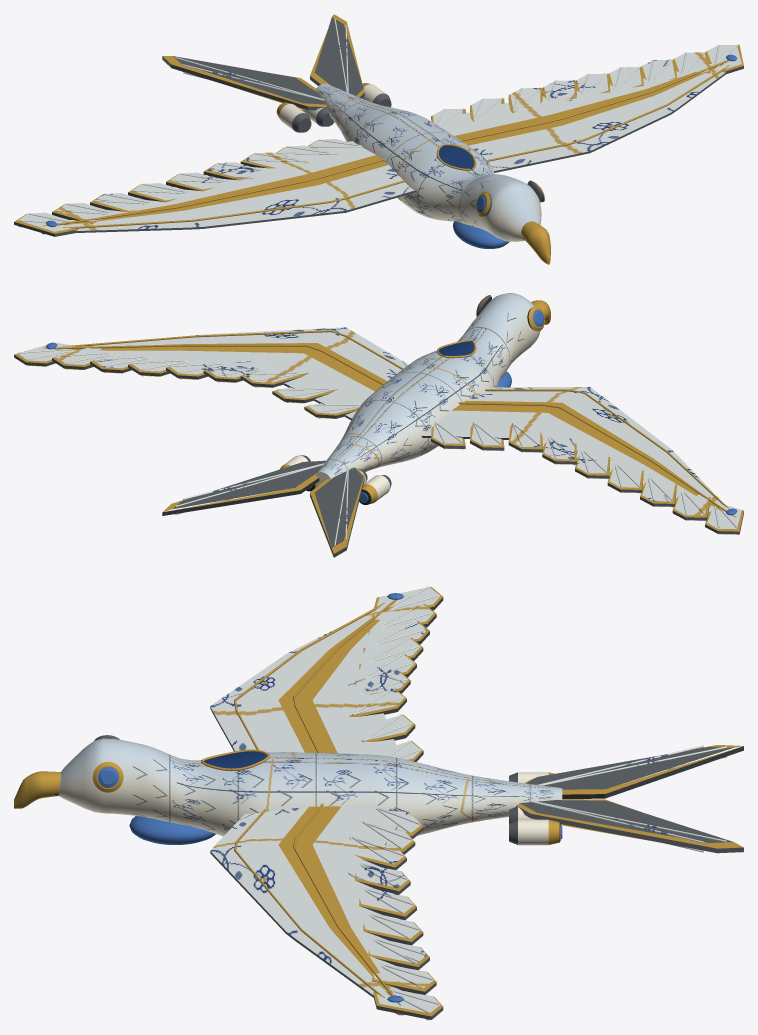
3 views of the same model, one above another, from view 1: azimuth 30°, elevation 25°; view 2: azimuth 150°, elevation 25°; view 3: azimuth 270°, elevation 25° (orthographic). The views are drawn at different scales.
Parts seen in each view (by area): view 1: frigatebird_hull; view 2: frigatebird_hull; view 3: frigatebird_hull.
Part boxes in pixels (x1=…): frigatebird_hull: x1=14, y1=14, x2=743, y2=264; frigatebird_hull: x1=14, y1=293, x2=743, y2=557; frigatebird_hull: x1=14, y1=586, x2=743, y2=1020.
Bounding box in the file's own units: 88 × 9.38 × 63.18.
1 material, 1 textured.
